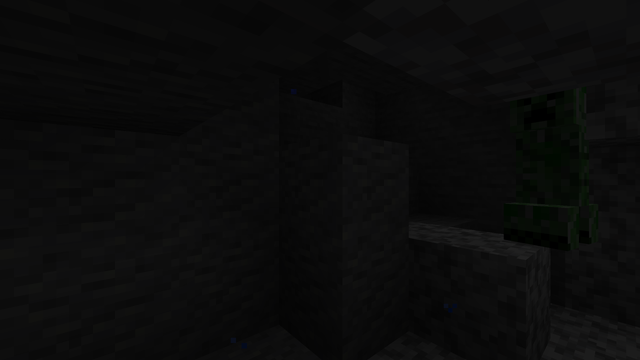creepers: (506, 103, 595, 251)
